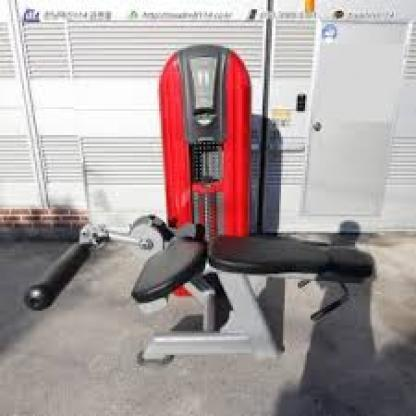reg curl machine: (22, 45, 376, 367)
